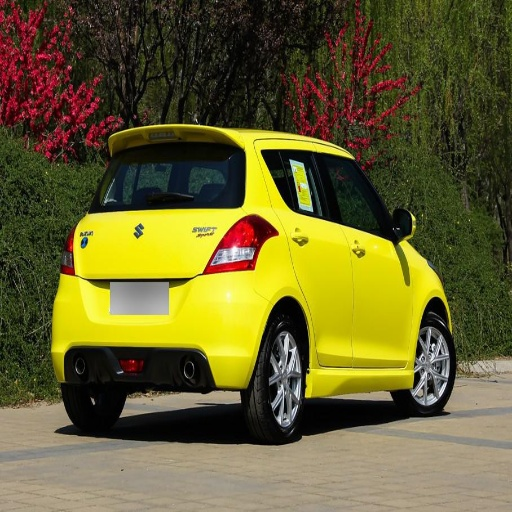back_bumper: (52, 270, 271, 390)
back_right_door: (279, 147, 352, 367)
trunk: (75, 211, 229, 313)
